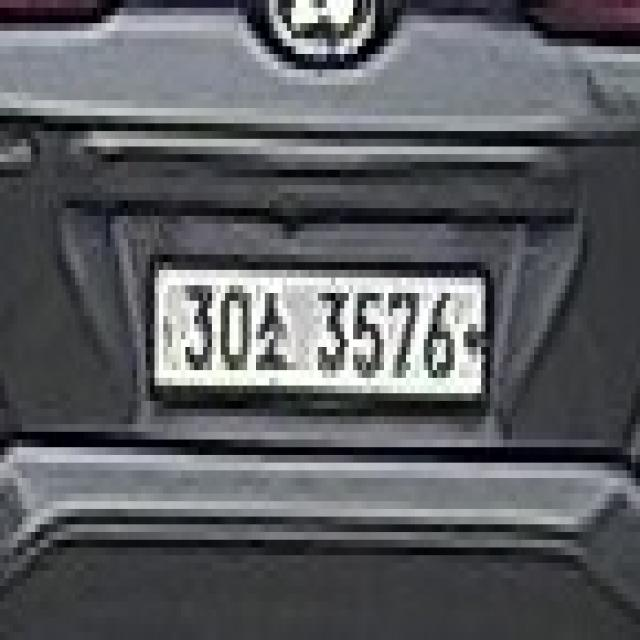0: (216, 285, 252, 378)
3: (181, 278, 216, 378), (317, 285, 348, 378)
5: (353, 278, 389, 378)
6: (419, 293, 459, 386)
7: (384, 285, 419, 378)
license_plate: (150, 262, 490, 401)
so: (252, 285, 291, 370)
